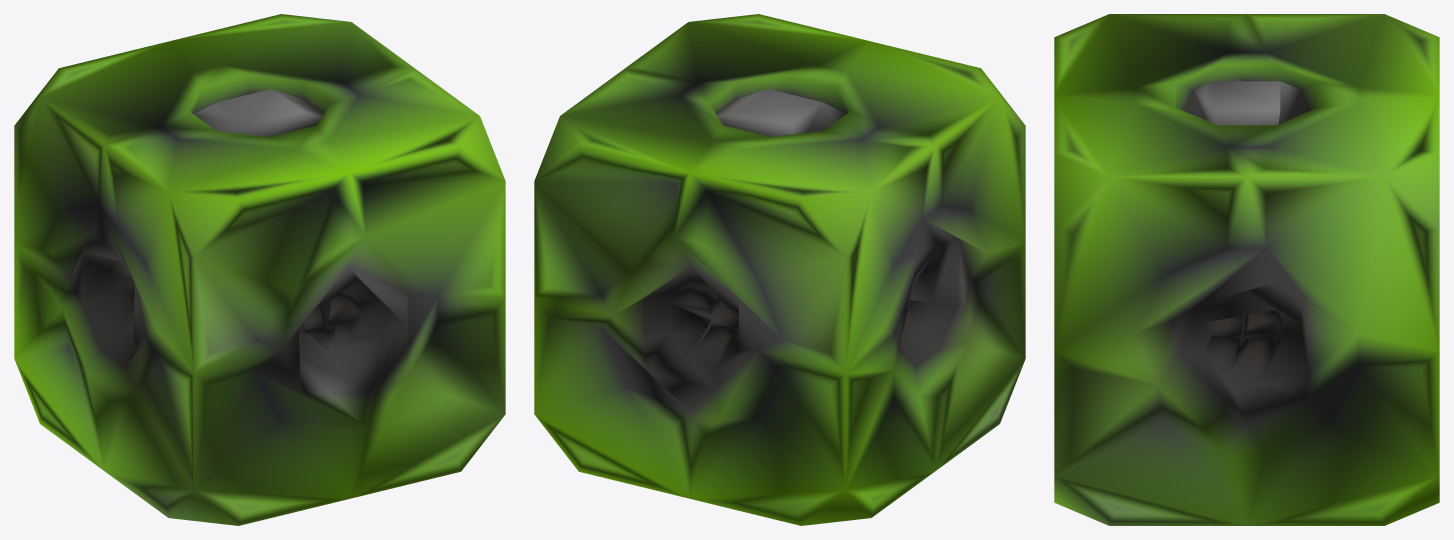
The model's file is junction_box_lod4.glb.
The picture shows the model from 3 angles, left to right: view 1: azimuth 30°, elevation 25°; view 2: azimuth 150°, elevation 25°; view 3: azimuth 270°, elevation 25°; orthographic projection. The views are drawn at different scales.
Visible parts, largest first — view 1: junction_box; view 2: junction_box; view 3: junction_box.
Boxes of the visible parts, <box> form: junction_box: <box>14,14,505,525</box>; junction_box: <box>534,14,1025,525</box>; junction_box: <box>1054,14,1439,525</box>.
Size of the model in its own units: 2 by 2 by 2.
